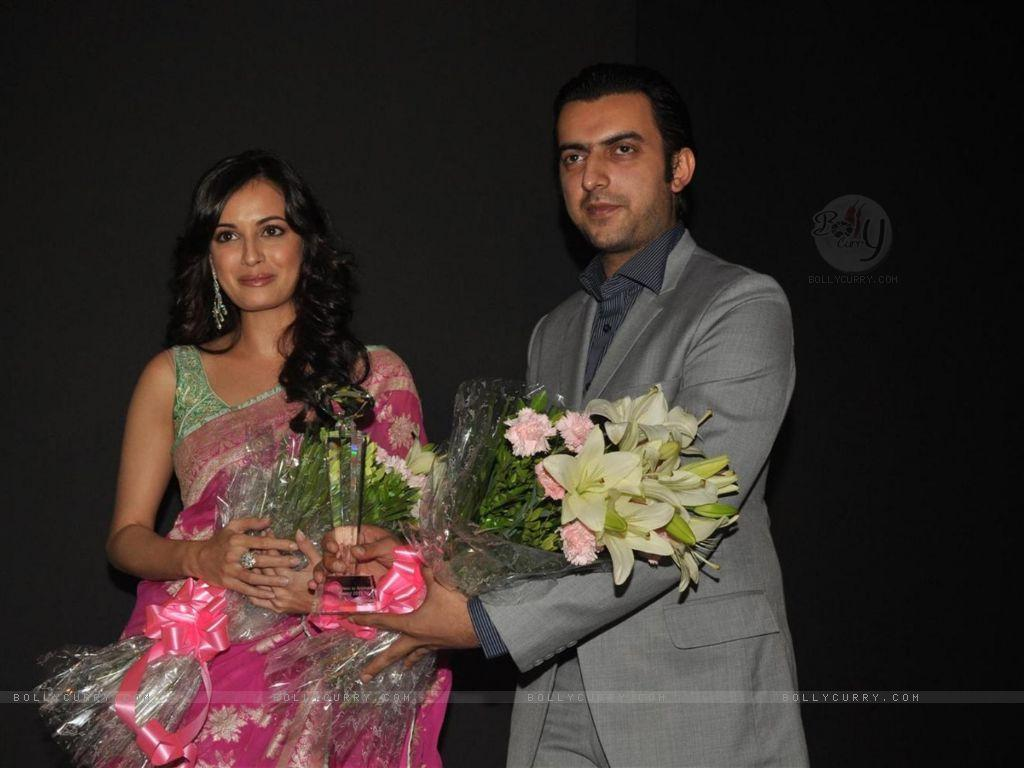face: (558, 94, 670, 246), (210, 180, 306, 306)
